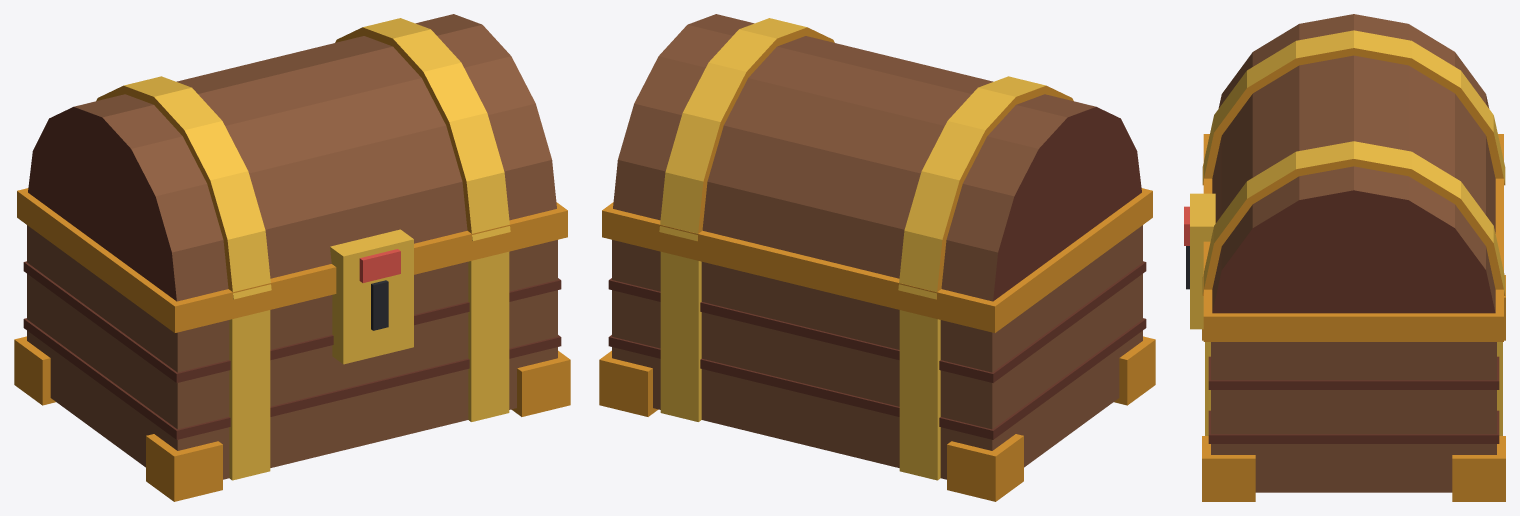
Rendered from C_Chest.fbx.
The picture shows the model from 3 angles, left to right: view 1: azimuth 30°, elevation 25°; view 2: azimuth 150°, elevation 25°; view 3: azimuth 270°, elevation 25°; orthographic projection. The views are drawn at different scales.
Parts seen in each view (by area): view 1: C_Chest; view 2: C_Chest; view 3: C_Chest.
Boxes of the visible parts, box(x1,y1,x2,y2) form: C_Chest: box(14, 14, 570, 501); C_Chest: box(599, 14, 1155, 501); C_Chest: box(1184, 14, 1505, 501).
Bounding box in the file's own units: 0.73 × 0.584 × 0.54.
